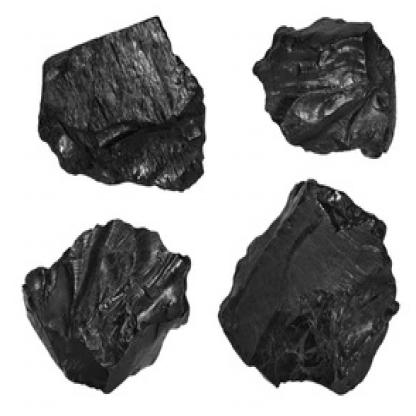Sedimentary_coal: (219, 171, 413, 399), (31, 7, 214, 191), (25, 215, 201, 394), (252, 6, 413, 160)
